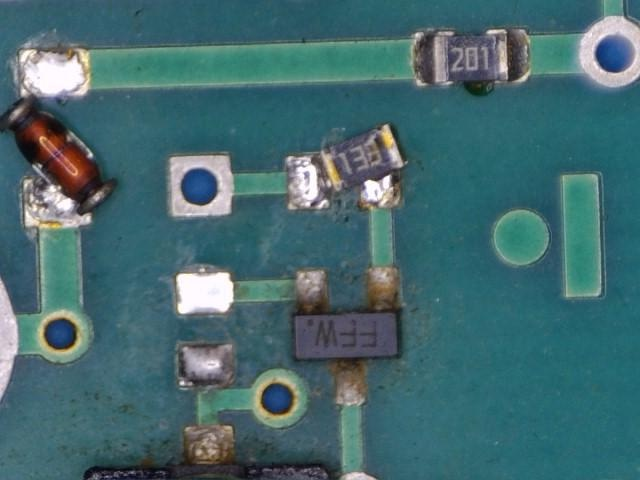pcb_defect: (1, 47, 117, 230), (286, 124, 406, 210)
